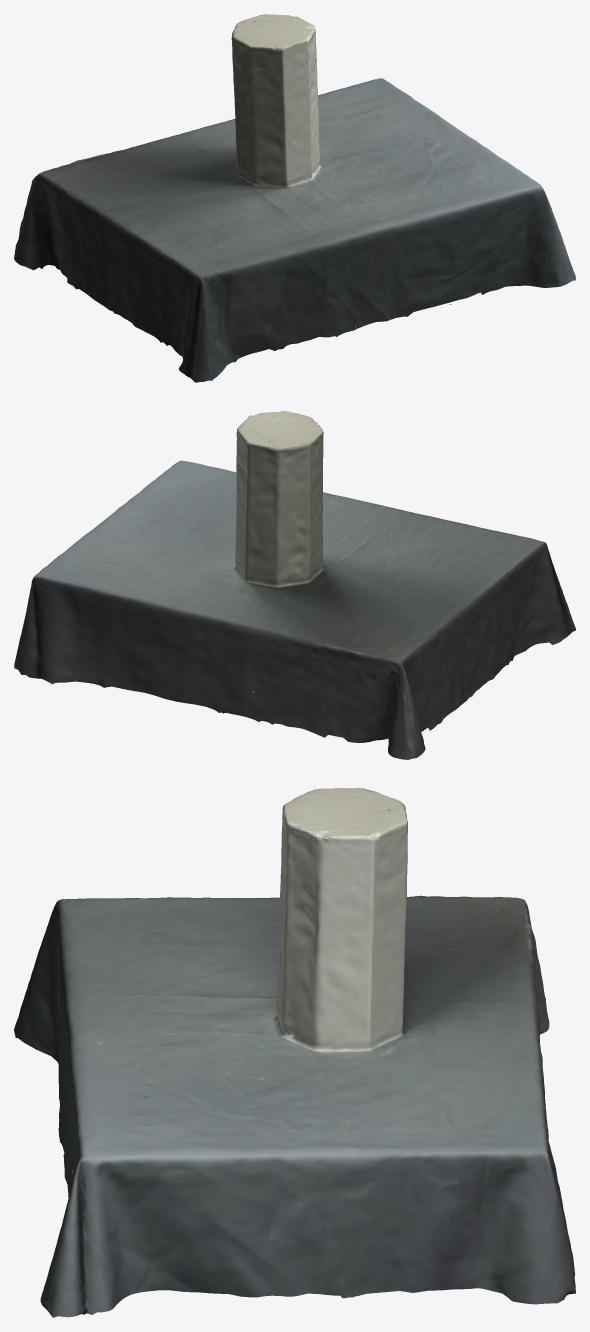
The model's file is 静物_几何体_六棱柱06_opt.glb.
3 renders of one model, top to bottom at view 1: azimuth 30°, elevation 25°; view 2: azimuth 150°, elevation 25°; view 3: azimuth 270°, elevation 25°, orthographic. The views are drawn at different scales.
Visible parts, largest first — view 1: defaultMat, defaultMat_1; view 2: defaultMat, defaultMat_1; view 3: defaultMat, defaultMat_1.
Part boxes in pixels (left/top/right/bottom): defaultMat: left=14, top=14, right=575, bottom=382; defaultMat_1: left=14, top=21, right=575, bottom=381; defaultMat: left=14, top=411, right=575, bottom=759; defaultMat_1: left=17, top=412, right=575, bottom=758; defaultMat: left=14, top=788, right=575, bottom=1317; defaultMat_1: left=38, top=795, right=575, bottom=1317.
Bounding box in the file's own units: 0.5485 × 0.3 × 0.4309.
Materials: 1 (1 with a texture image).
